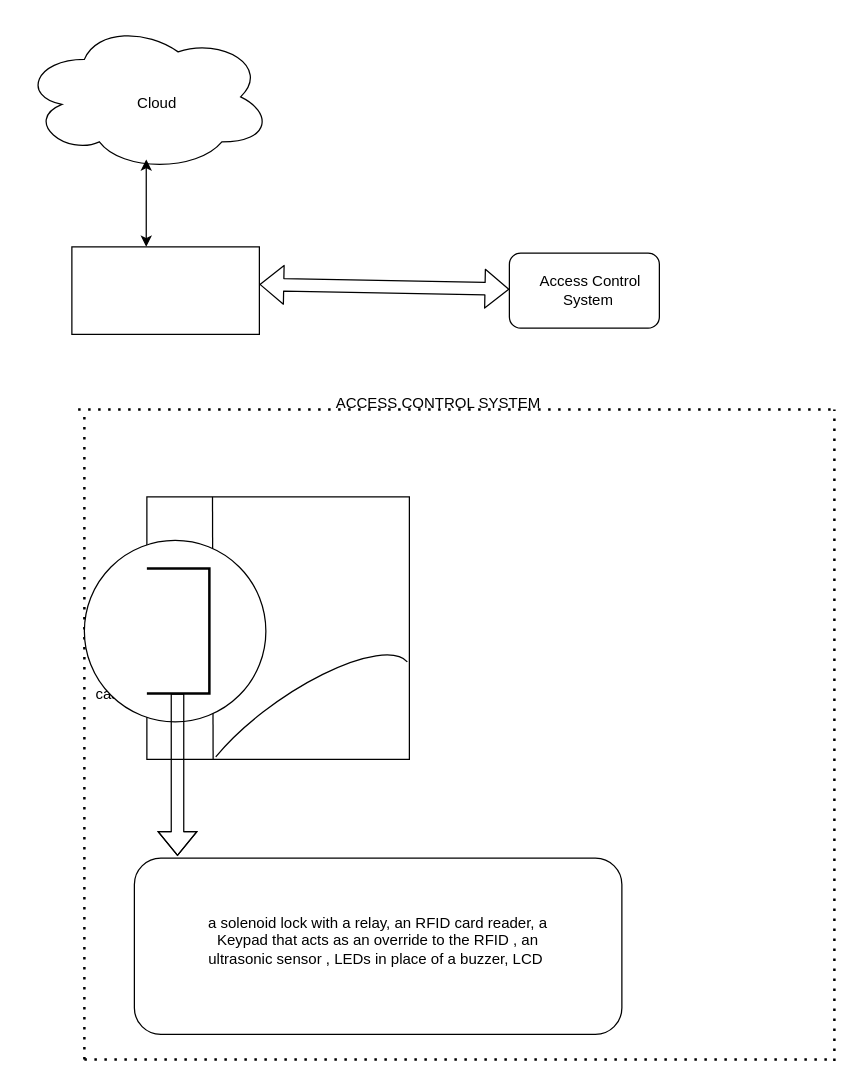
Some shapes in this 859 by 1085 pixel diagram are drawn without their labels. The shapes that lost their labels are listed below. From the top down, each one's centre as x and y in pixels, then its label:
the point at 165,290: Database information in Dashboard ..
the point at 177,630: door lock
